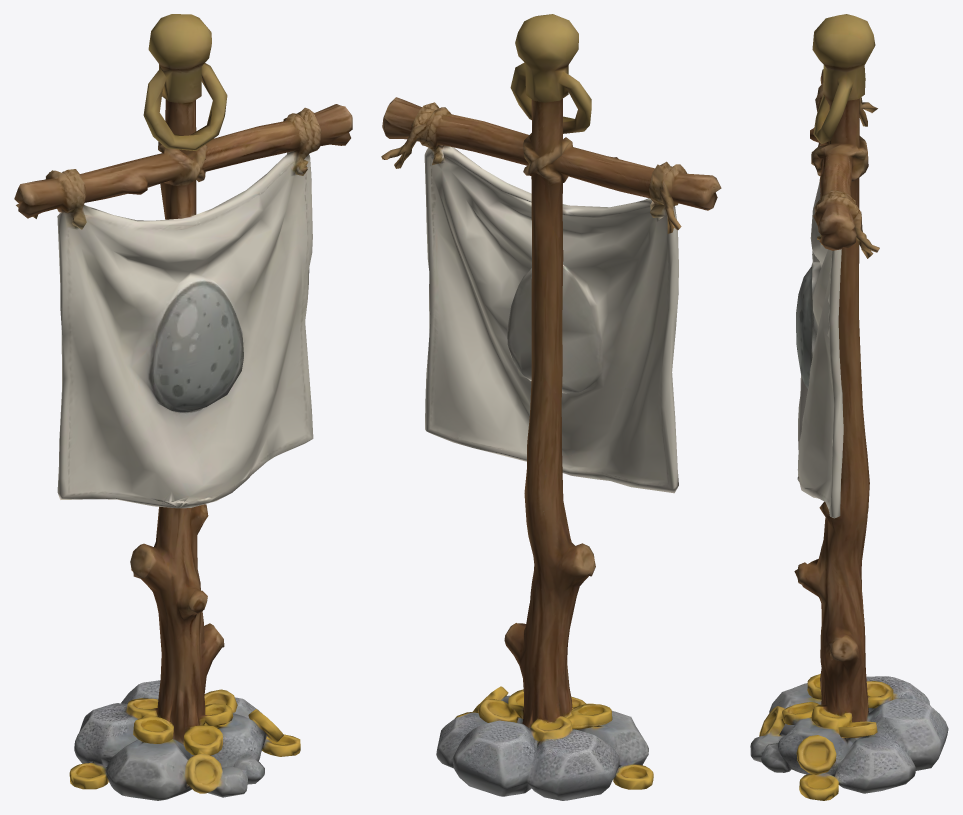
Rendered from bayrak.glb.
3 views of the same model, side by side, from view 1: azimuth 30°, elevation 25°; view 2: azimuth 150°, elevation 25°; view 3: azimuth 270°, elevation 25° (orthographic).
Visible parts, largest first — view 1: tripo_node_cac22199-789c-434b-a032-426ad81bc501; view 2: tripo_node_cac22199-789c-434b-a032-426ad81bc501; view 3: tripo_node_cac22199-789c-434b-a032-426ad81bc501.
Part boxes in pixels (left/top/right/bottom): tripo_node_cac22199-789c-434b-a032-426ad81bc501: left=14, top=14, right=352, bottom=800; tripo_node_cac22199-789c-434b-a032-426ad81bc501: left=381, top=14, right=721, bottom=800; tripo_node_cac22199-789c-434b-a032-426ad81bc501: left=750, top=14, right=948, bottom=800.
Size of the model in its own units: 0.4503 by 0.9799 by 0.2394.
1 material, 1 textured.
